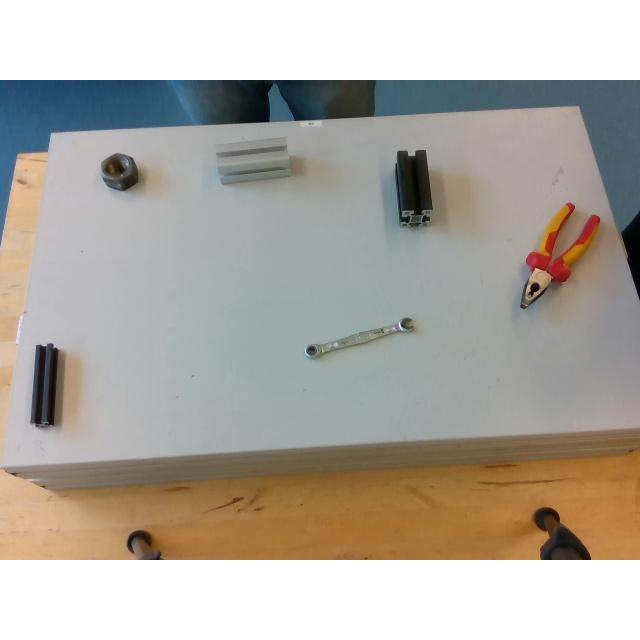F20_20_B: (32, 344, 56, 424)
M30: (102, 153, 138, 189)
S40_40_B: (395, 150, 431, 226)
S40_40_G: (214, 137, 290, 183)
Wrench: (306, 317, 414, 357)
